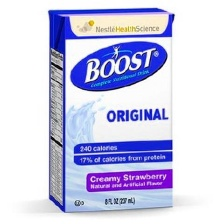carton: (44, 5, 183, 215)
